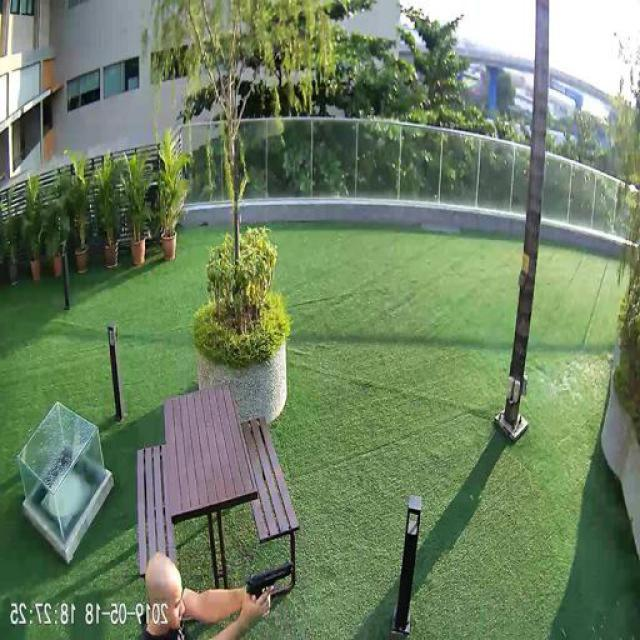weapon: (243, 562, 296, 612)
